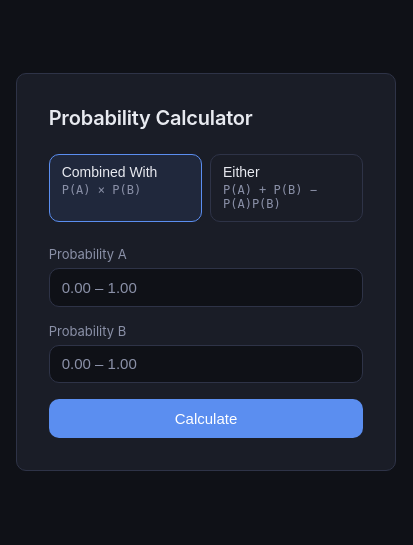
Test: App › clears result when switching operations
Type "0.5" into the number field labelled "Probability A". click: {"x": 206, "y": 287}
box: [49,268,363,306]
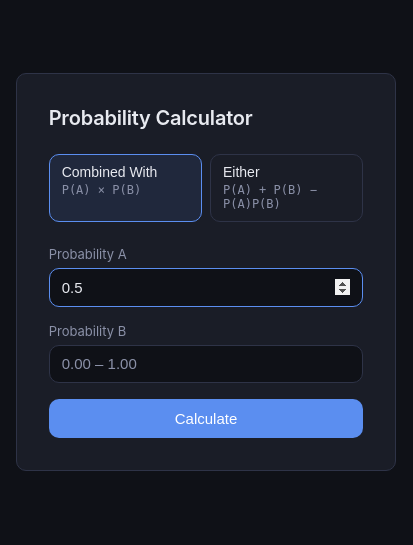
Type "0.6" into the number field labelled "Probability B". click: {"x": 206, "y": 364}
box: [49,345,363,383]
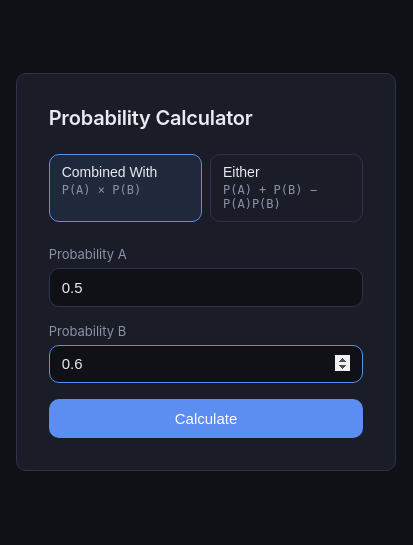
Click the button "Calculate". click: {"x": 206, "y": 419}
box: [49,399,363,438]
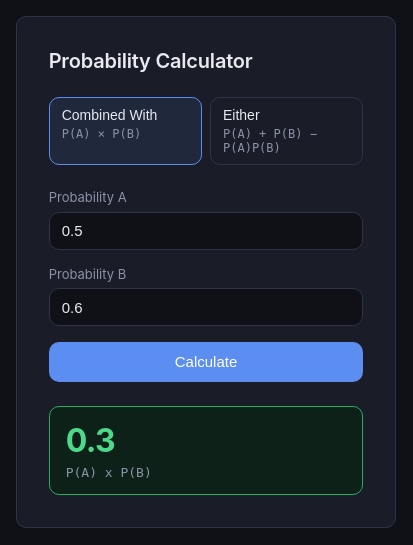
Result: the text "0.3" is shown at [66,421,115,460]
Click the tab "Either P(A) + P(B) − P(A)P(B)". click: {"x": 287, "y": 131}
box: [210,97,363,165]
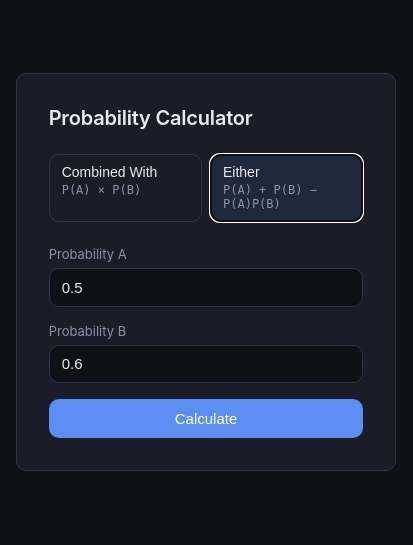
Result: the text "0.3" is gone
